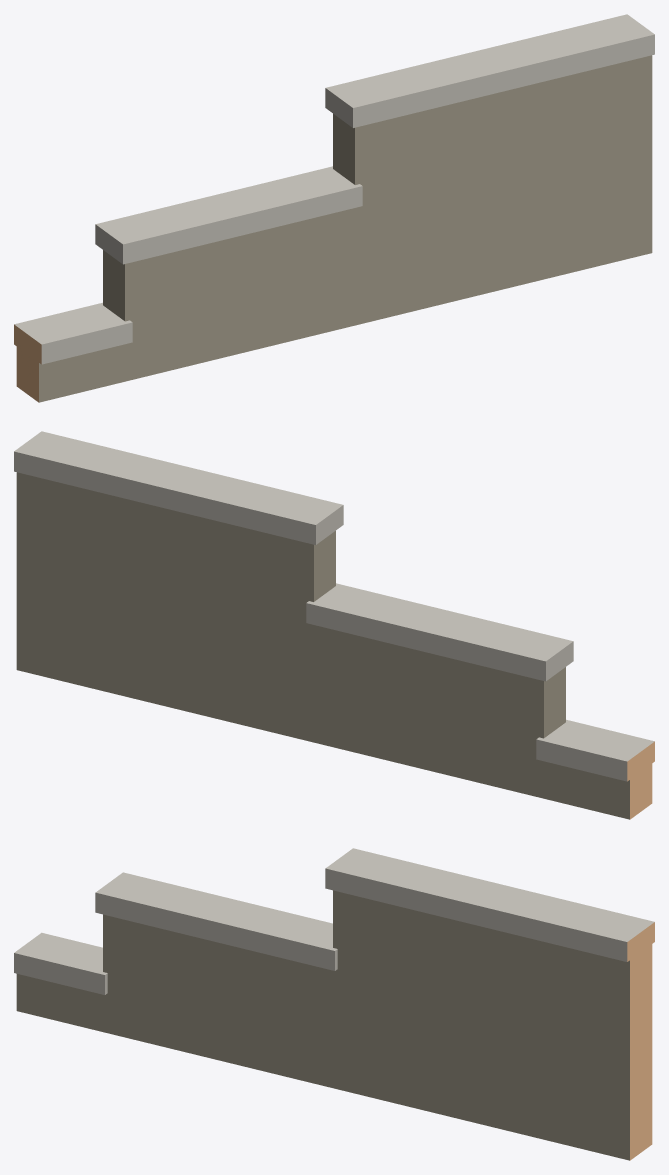
File: Tiered_Retaining_Wall_Stepped_Straight_1x4.glb
3 renders of one model, top to bottom at view 1: azimuth 30°, elevation 25°; view 2: azimuth 150°, elevation 25°; view 3: azimuth 330°, elevation 25°, orthographic.
Visible parts, largest first — view 1: Tiered_Retaining_Wall_Stepped_Straight_1x4; view 2: Tiered_Retaining_Wall_Stepped_Straight_1x4; view 3: Tiered_Retaining_Wall_Stepped_Straight_1x4.
Boxes of the visible parts, x1,y1,x2,y2 form: Tiered_Retaining_Wall_Stepped_Straight_1x4: (14,14,654,402); Tiered_Retaining_Wall_Stepped_Straight_1x4: (14,431,654,819); Tiered_Retaining_Wall_Stepped_Straight_1x4: (14,848,654,1160).
Bounding box in the file's own units: 400 × 138 × 31.25.
